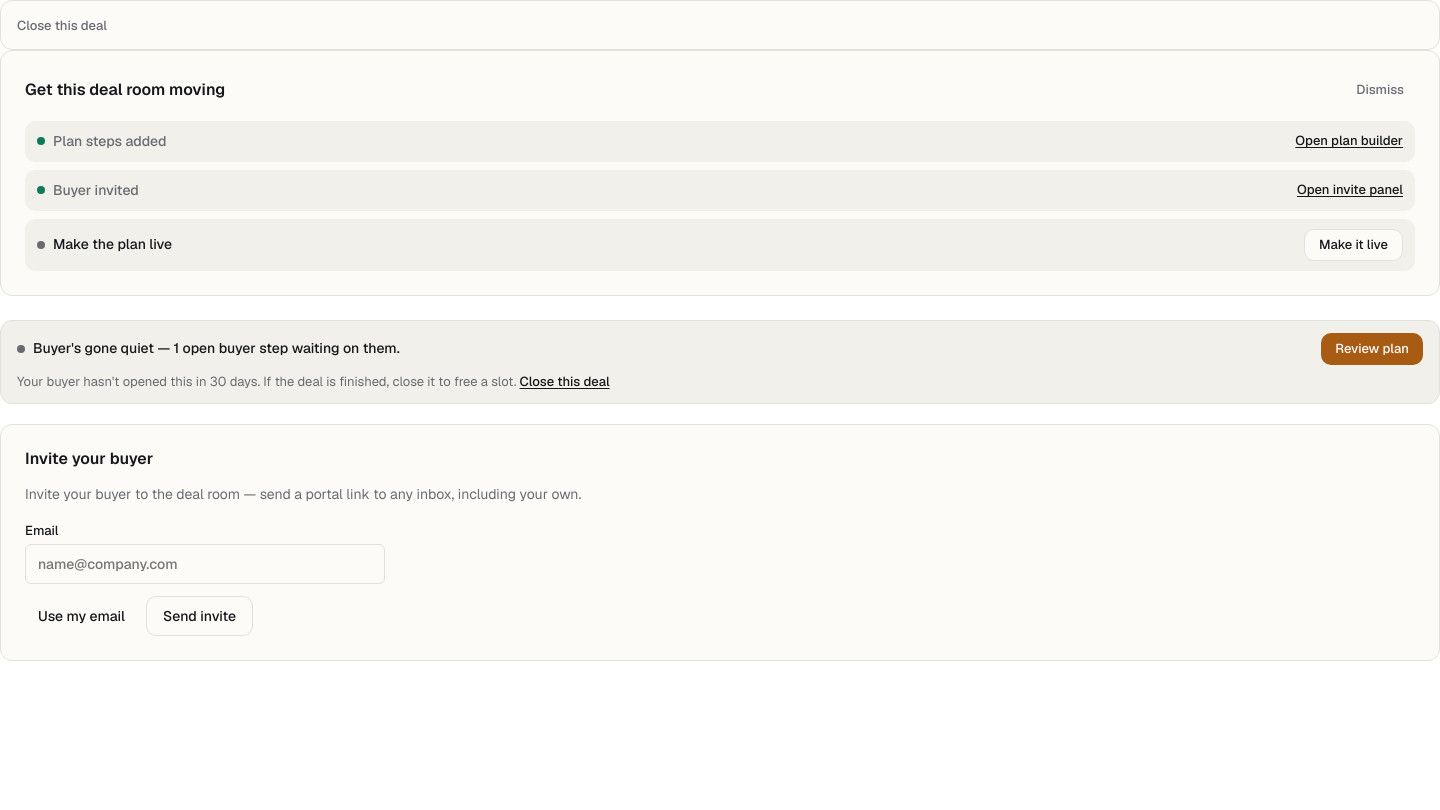
Test: Workspace dashboard — the hand-off itself › stays at one Signal when a STALE page is refused mid-click and a wall appears late
Click the button "Make it live".
click(1354, 244)  # box 1304,228 -> 1403,260
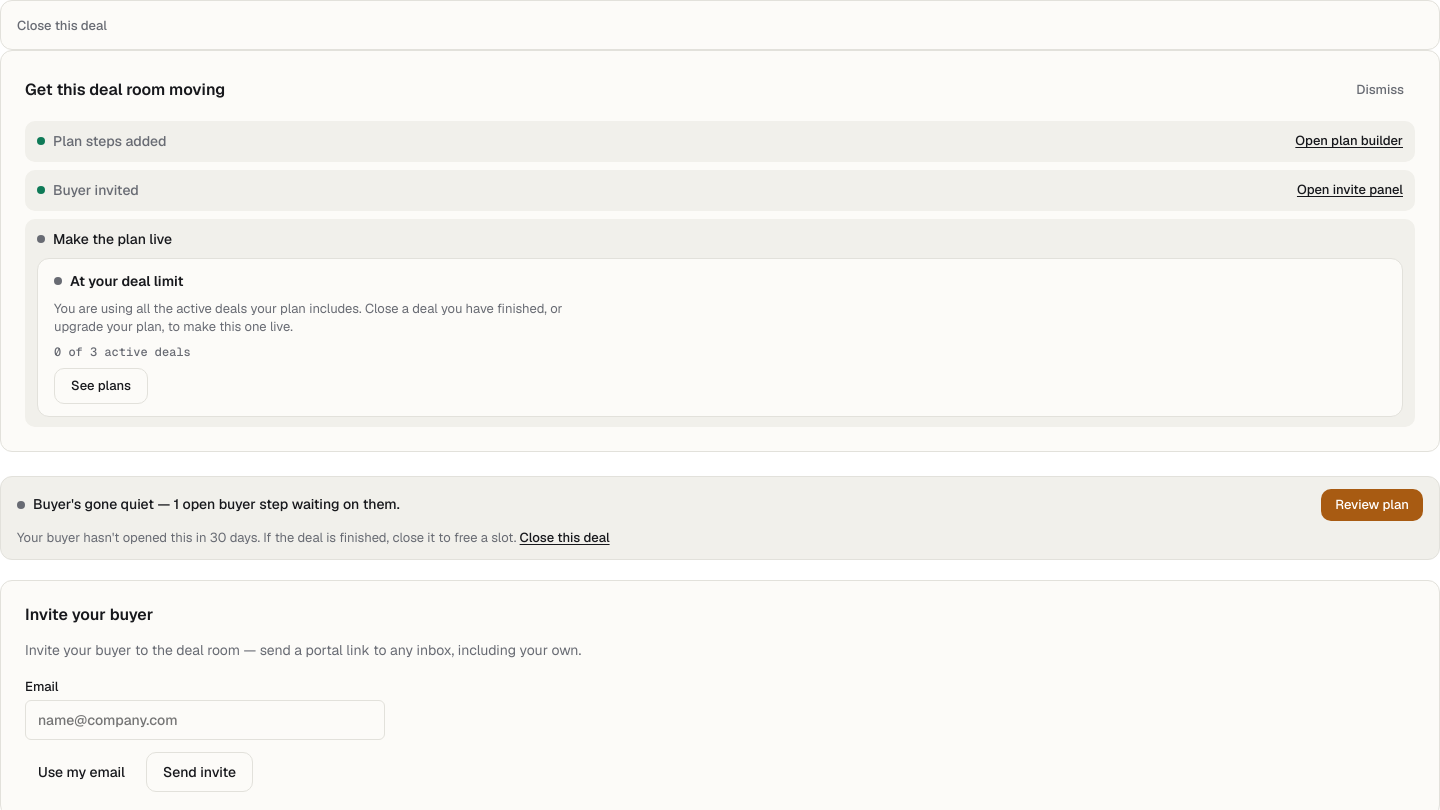
Result: the message with test id "deal-limit-notice" is shown at 37,258 -> 1403,416
